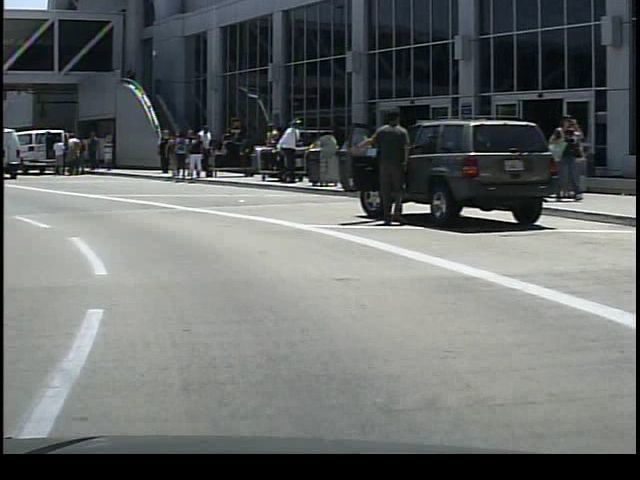person: (360, 107, 410, 232), (545, 107, 579, 201), (269, 113, 299, 190), (193, 123, 218, 180), (151, 125, 174, 176), (183, 129, 205, 180), (81, 128, 103, 175), (64, 130, 81, 179), (49, 136, 68, 177)
